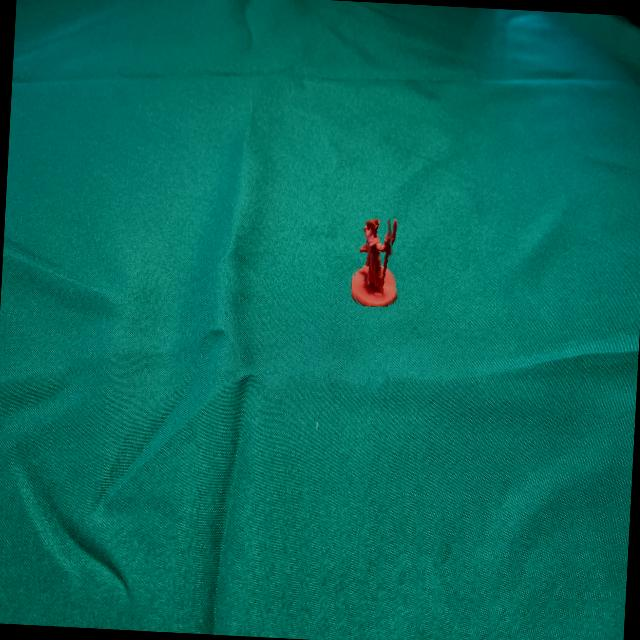amon_follower: (354, 218, 397, 307)
